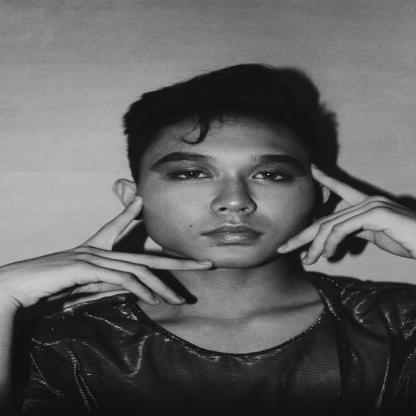Eye: (163, 164, 211, 186), (254, 164, 296, 185)
Mouth: (200, 224, 264, 246)
Nose: (212, 174, 257, 214)
